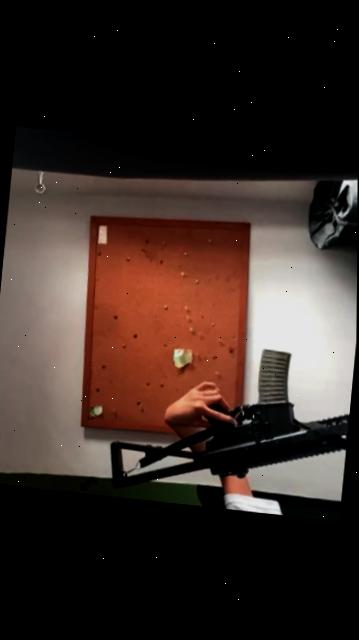rifle: (75, 322, 356, 512)
